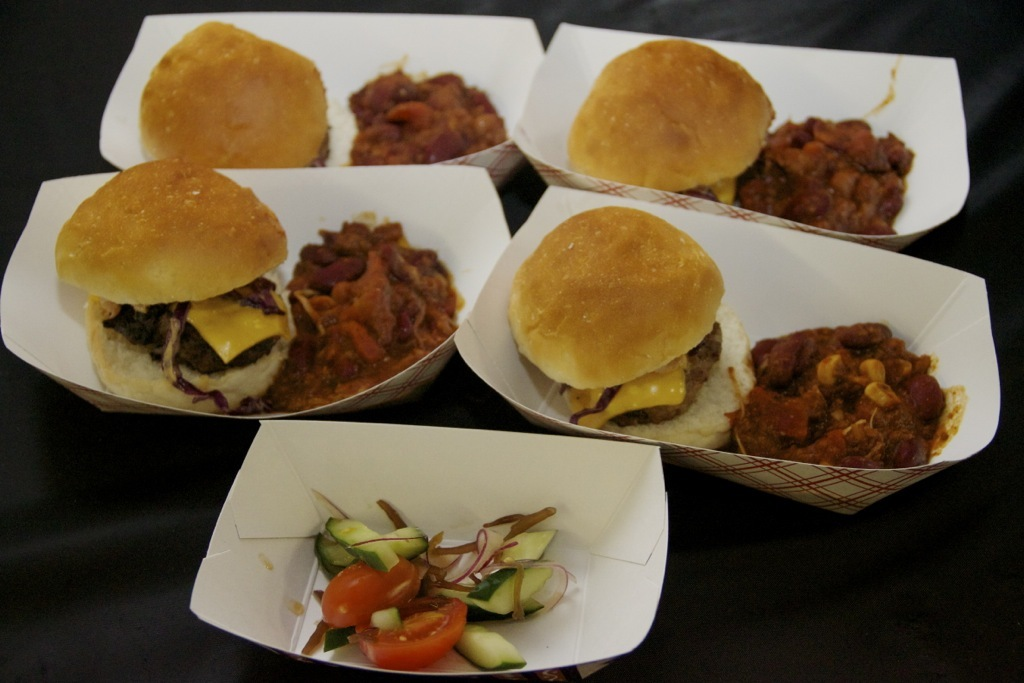Hamburger: (56, 157, 289, 417), (506, 208, 750, 443), (568, 37, 776, 194), (142, 20, 327, 167)
